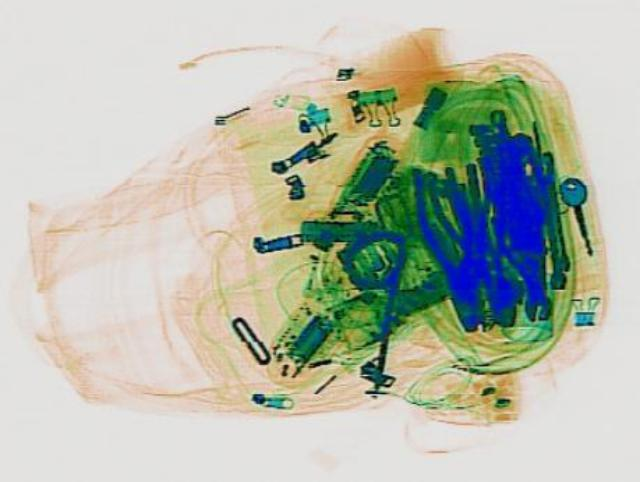Pliers: (399, 160, 498, 332)
Wrench: (517, 241, 553, 318)
